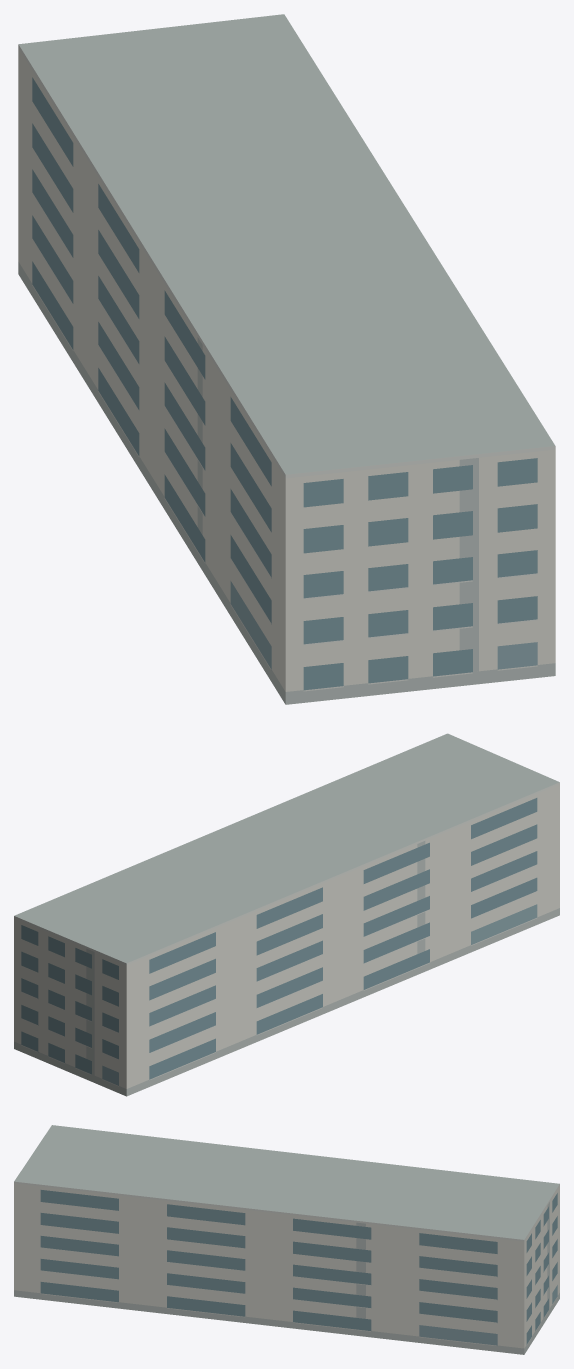
The model's file is survey-upis-32675321.glb.
The picture shows the model from 3 angles, top to bottom: view 1: azimuth 30°, elevation 25°; view 2: azimuth 150°, elevation 25°; view 3: azimuth 270°, elevation 25°; orthographic projection. The views are drawn at different scales.
Parts seen in each view (by area): view 1: survey-upis-32675321.tmp; view 2: survey-upis-32675321.tmp; view 3: survey-upis-32675321.tmp.
Part boxes in pixels (<box>): survey-upis-32675321.tmp: <box>18,14,555,704</box>; survey-upis-32675321.tmp: <box>14,733,559,1096</box>; survey-upis-32675321.tmp: <box>14,1125,559,1354</box>.
Bounding box in the file's own units: 32.69 × 15.25 × 65.62.
